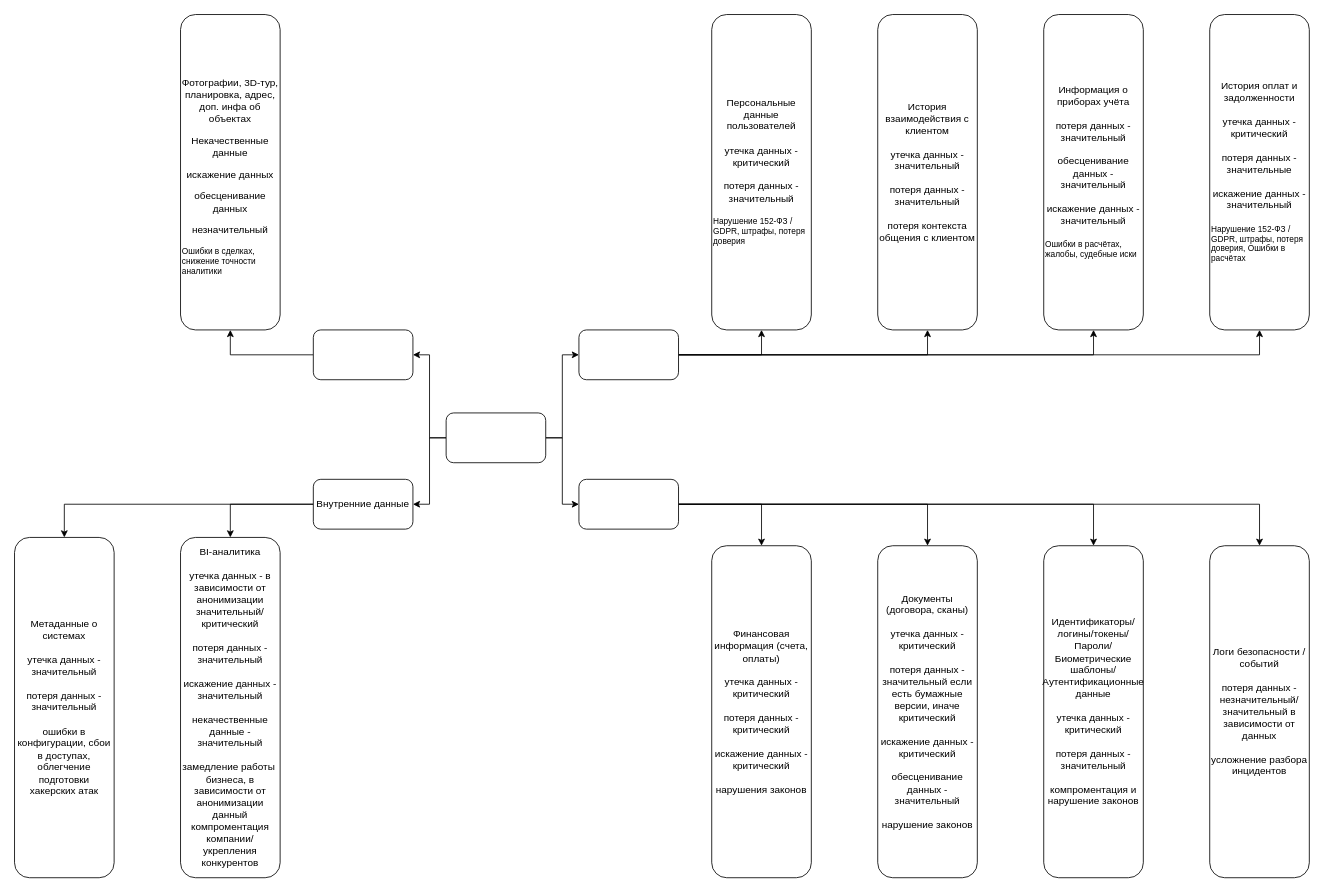
The diagram is 1324 pixels wide and 892 high, and some of its shapes have lost their labels. The box of each missing label's shape, as (x1, y1, x2, y2) in pixels:
Безопасность данных: (445, 412, 546, 463)
Конфиденциальные данные: (578, 329, 679, 380)
Публичные данные: (312, 329, 413, 380)
Секретные данные: (578, 478, 679, 529)
